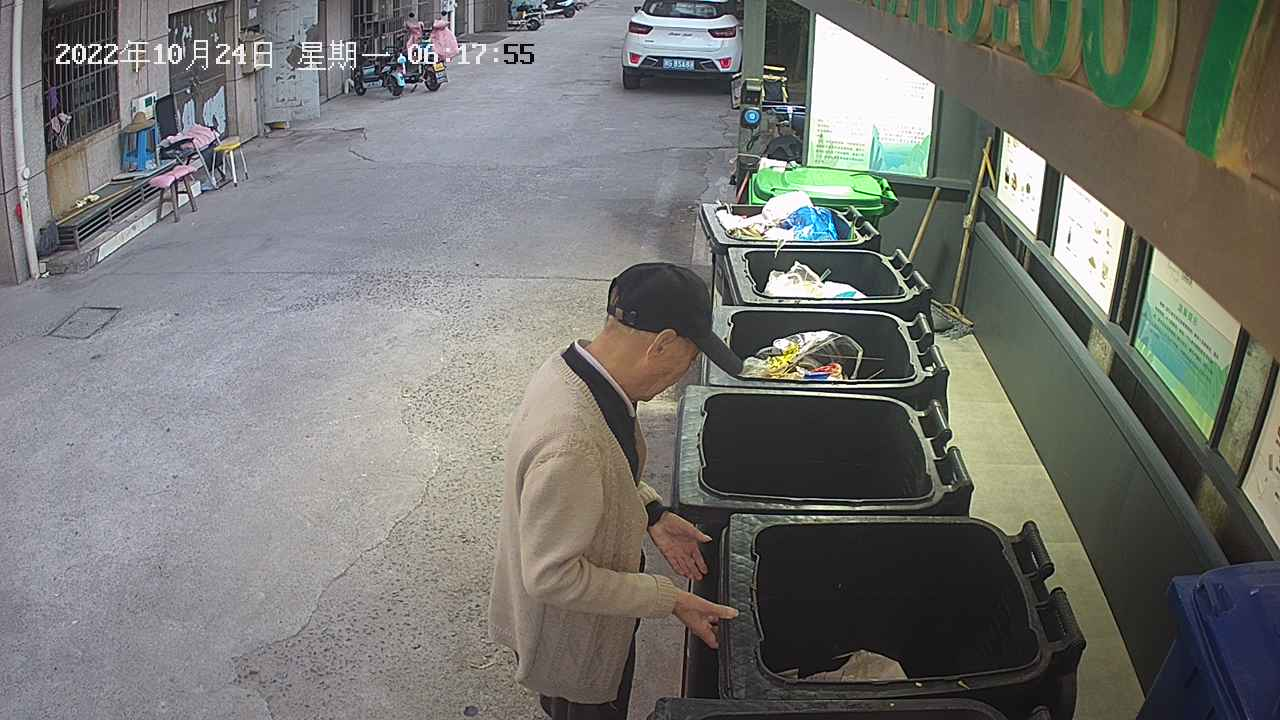person: (476, 254, 747, 720)
